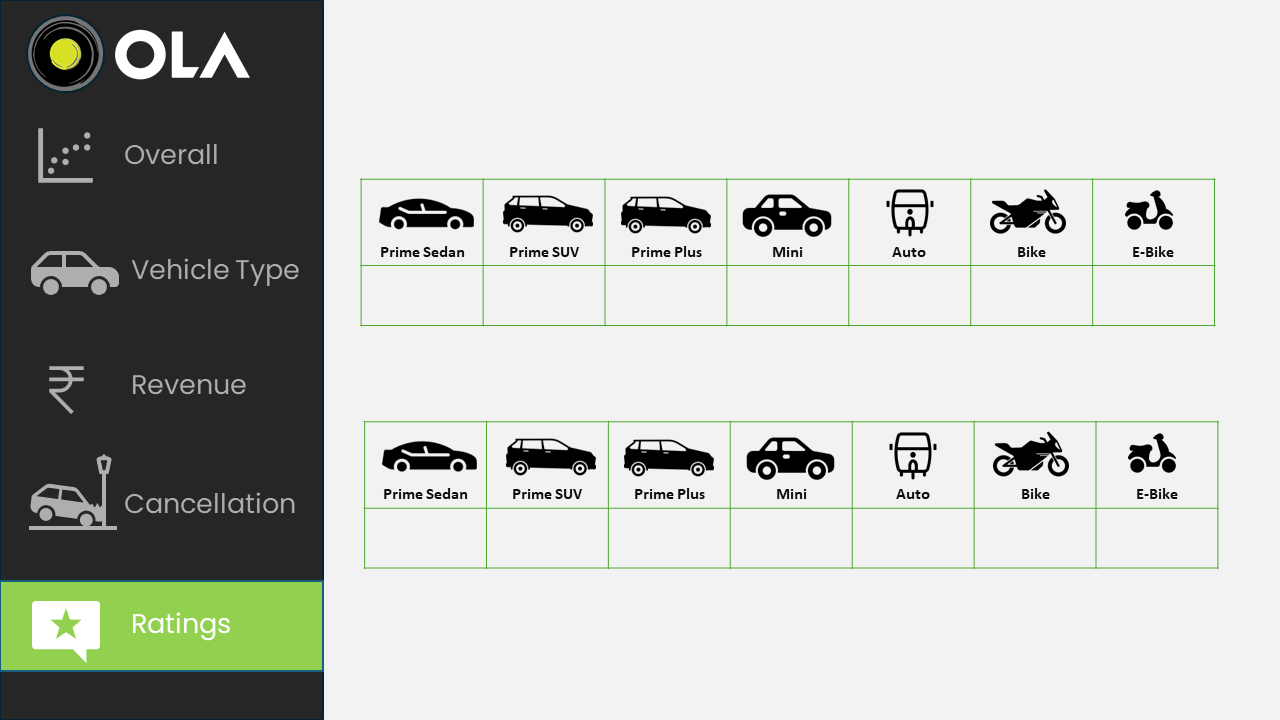

The dashboard page shown, as its layout file describes it:
{"tool":"powerbi","page":{"name":"RATINGS","canvas":[1280,720],"ordinal":4},"visuals":[{"type":"actionButton","box":[0,218.4,323.9,92],"z":0},{"type":"actionButton","box":[0,336.2,323.9,92],"z":1000},{"type":"actionButton","box":[0,445.4,323.9,92],"z":2000},{"type":"actionButton","box":[0,111.7,323.9,92],"z":3000},{"type":"card","fields":{"Values":["Avg(July.Driver_Ratings)"]},"box":[372.5,265,103.8,58.8],"z":4000},{"type":"card","fields":{"Values":["Avg(July.Driver_Ratings)"]},"box":[490,265,103.8,58.8],"z":5000},{"type":"card","fields":{"Values":["Avg(July.Driver_Ratings)"]},"box":[613.8,265,103.8,58.8],"z":6000},{"type":"card","fields":{"Values":["Avg(July.Driver_Ratings)"]},"box":[738.8,266.2,103.8,58.8],"z":7000},{"type":"card","fields":{"Values":["Avg(July.Driver_Ratings)"]},"box":[855,265,103.8,58.8],"z":8000},{"type":"card","fields":{"Values":["Avg(July.Driver_Ratings)"]},"box":[975,265,103.8,58.8],"z":9000},{"type":"card","fields":{"Values":["Avg(July.Driver_Ratings)"]},"box":[1100,266.2,103.8,58.8],"z":10000},{"type":"card","fields":{"Values":["Avg(July.Customer_Rating)"]},"box":[367.5,506.2,113.8,62.5],"z":11000},{"type":"card","fields":{"Values":["Avg(July.Customer_Rating)"]},"box":[490,506.2,113.8,62.5],"z":12000},{"type":"card","fields":{"Values":["Avg(July.Customer_Rating)"]},"box":[613.8,506.2,113.8,62.5],"z":13000},{"type":"card","fields":{"Values":["Avg(July.Customer_Rating)"]},"box":[738.8,506.2,113.8,62.5],"z":14000},{"type":"card","fields":{"Values":["Avg(July.Customer_Rating)"]},"box":[861.2,506.2,113.8,62.5],"z":15000},{"type":"card","fields":{"Values":["Avg(July.Customer_Rating)"]},"box":[975,506.2,113.8,62.5],"z":16000},{"type":"card","fields":{"Values":["Avg(July.Customer_Rating)"]},"box":[1095,506.2,113.8,62.5],"z":17000},{"type":"textbox","box":[358.8,123.8,145,42.5],"z":18000},{"type":"textbox","box":[367.5,371.2,167.5,57.5],"z":18001},{"type":"slicer","title":"Date","fields":{"Values":["July.Date"]},"box":[1016.2,0,253.8,128.8],"z":18002}]}

Visuals, with their boxes on the page's 1280x720 design canvas (x1, y1, x2, y2). These are canvas units, not pixel positions in the 1280x720 screenshot, which may show the page scaled, cropped or inside an application window:
actionButton: [x1=0, y1=218, x2=324, y2=310]
actionButton: [x1=0, y1=336, x2=324, y2=428]
actionButton: [x1=0, y1=445, x2=324, y2=537]
actionButton: [x1=0, y1=112, x2=324, y2=204]
card - Avg(July.Driver_Ratings): [x1=372, y1=265, x2=476, y2=324]
card - Avg(July.Driver_Ratings): [x1=490, y1=265, x2=594, y2=324]
card - Avg(July.Driver_Ratings): [x1=614, y1=265, x2=718, y2=324]
card - Avg(July.Driver_Ratings): [x1=739, y1=266, x2=843, y2=325]
card - Avg(July.Driver_Ratings): [x1=855, y1=265, x2=959, y2=324]
card - Avg(July.Driver_Ratings): [x1=975, y1=265, x2=1079, y2=324]
card - Avg(July.Driver_Ratings): [x1=1100, y1=266, x2=1204, y2=325]
card - Avg(July.Customer_Rating): [x1=368, y1=506, x2=481, y2=569]
card - Avg(July.Customer_Rating): [x1=490, y1=506, x2=604, y2=569]
card - Avg(July.Customer_Rating): [x1=614, y1=506, x2=728, y2=569]
card - Avg(July.Customer_Rating): [x1=739, y1=506, x2=853, y2=569]
card - Avg(July.Customer_Rating): [x1=861, y1=506, x2=975, y2=569]
card - Avg(July.Customer_Rating): [x1=975, y1=506, x2=1089, y2=569]
card - Avg(July.Customer_Rating): [x1=1095, y1=506, x2=1209, y2=569]
textbox: [x1=359, y1=124, x2=504, y2=166]
textbox: [x1=368, y1=371, x2=535, y2=429]
"Date" slicer: [x1=1016, y1=0, x2=1270, y2=129]
